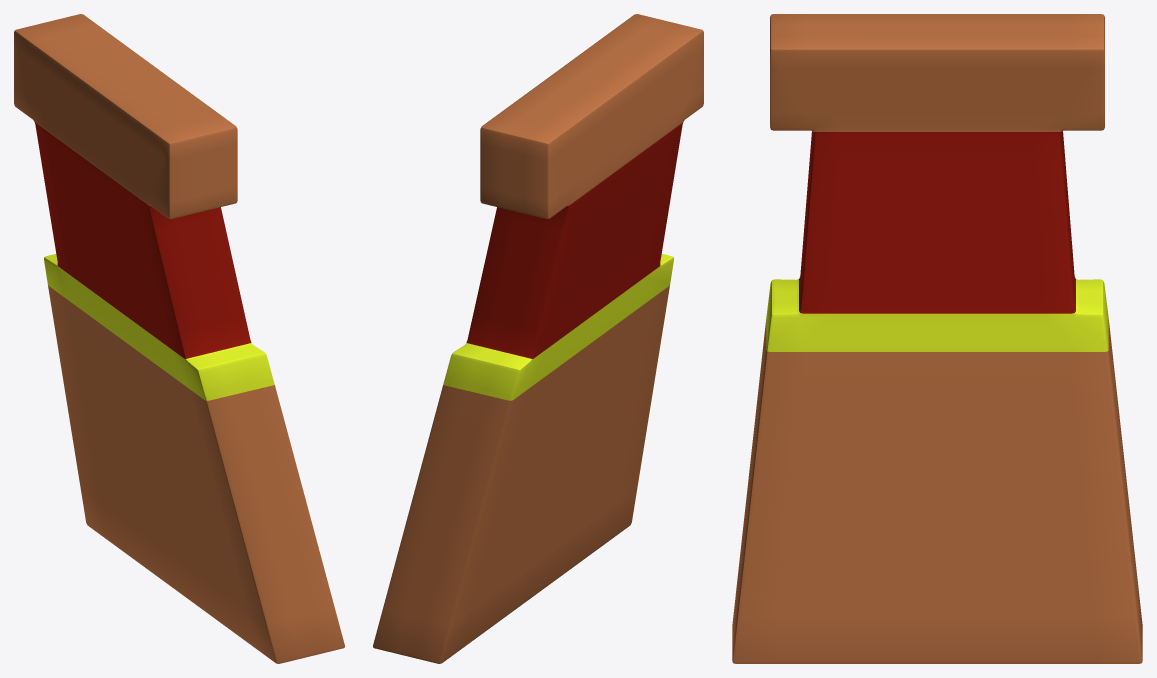
Rendered from ExteriorBorderEdge1.fbx.
3 renders of one model, left to right at view 1: azimuth 30°, elevation 25°; view 2: azimuth 150°, elevation 25°; view 3: azimuth 270°, elevation 25°, orthographic. The views are drawn at different scales.
Visible parts, largest first — view 1: (Mapped) exterior border edge 1; view 2: (Mapped) exterior border edge 1; view 3: (Mapped) exterior border edge 1.
Part boxes in pixels (x1,y1,x2,y2): (Mapped) exterior border edge 1: (14,14,344,663); (Mapped) exterior border edge 1: (373,14,703,663); (Mapped) exterior border edge 1: (732,14,1142,663).
Size of the model in its own units: 2.54 by 8.11 by 5.3.
